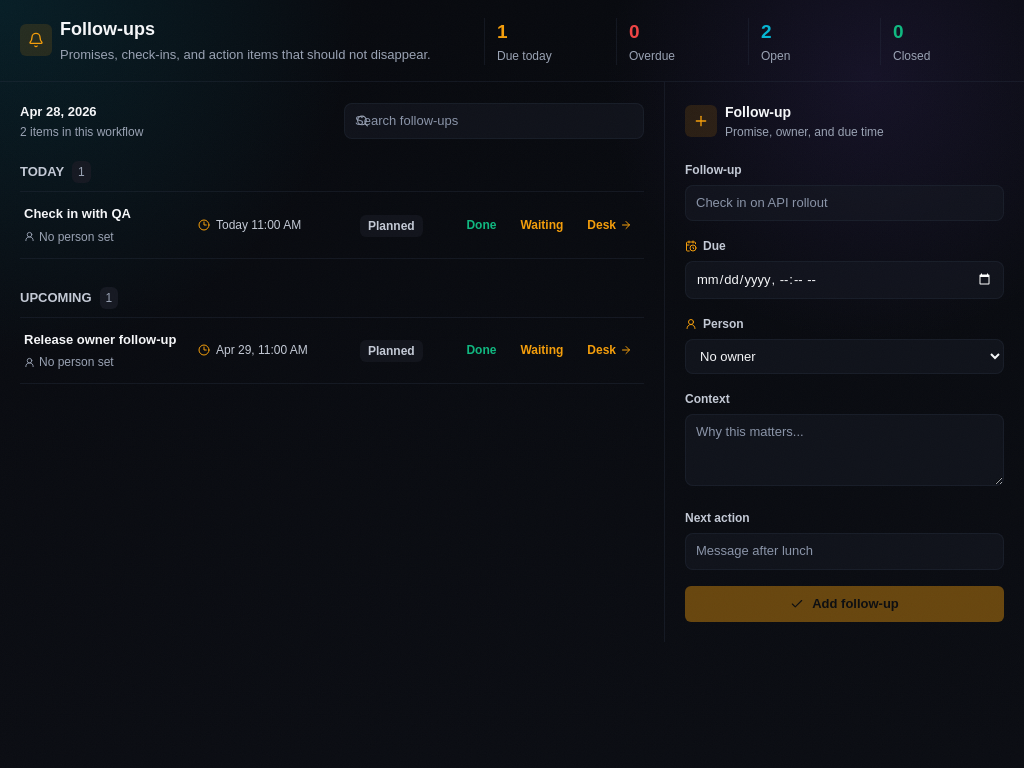
Test: ManagerMemoryPage › renders follow-ups directly and filters them by search
Expected: the heading "Follow-ups" is shown, [60,19,155,39]
Expected: the heading "Check in with QA" is shown, [24,206,131,221]
Type "release owner" into the field labelled "Search follow-ups" at (494, 121), box [344,103,644,139]
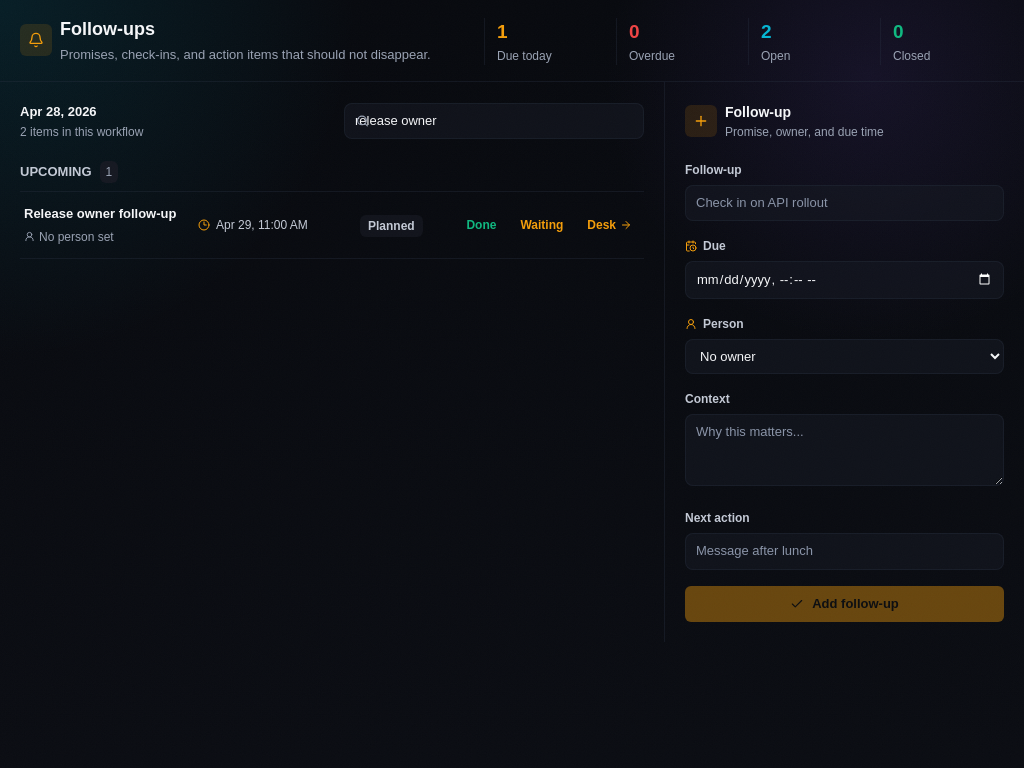
Expected: the heading "Release owner follow-up" is shown, [24,204,186,224]
Expected: the heading "Check in with QA" is gone
